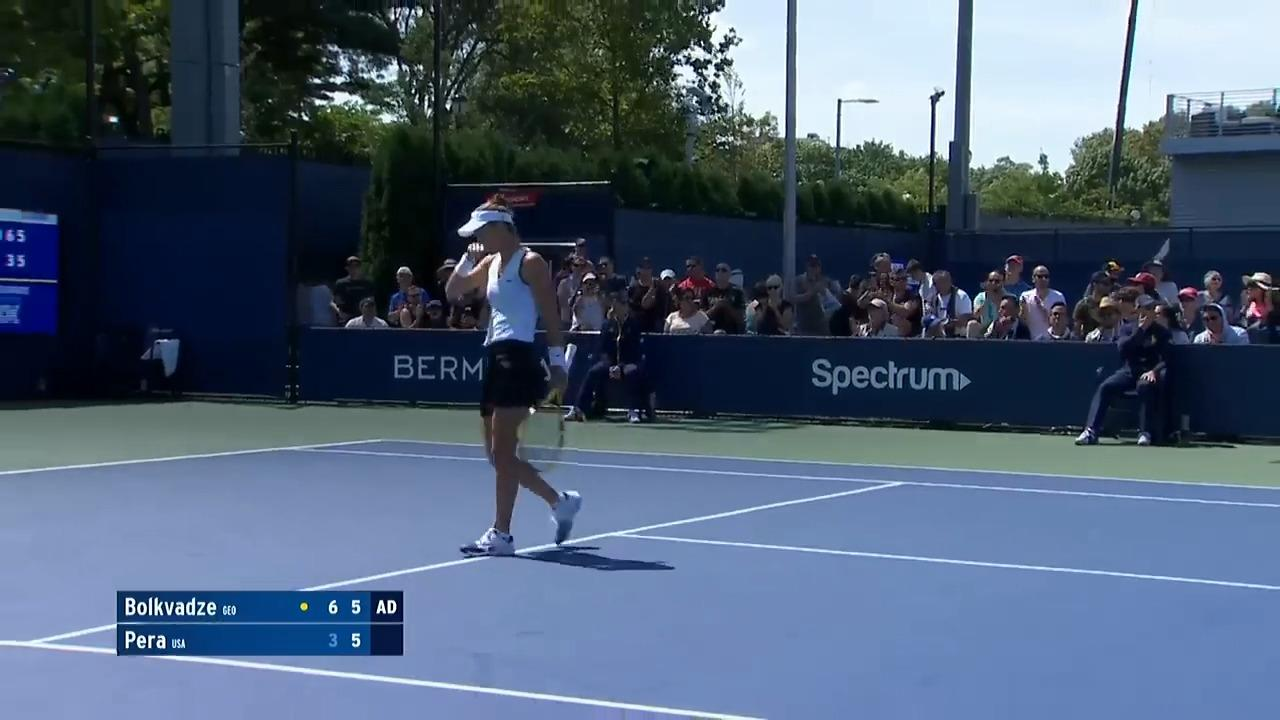tennis racket: (521, 344, 578, 465)
